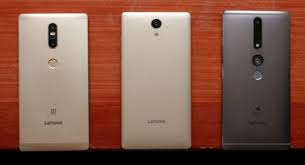lenovo: (17, 10, 94, 154), (116, 9, 193, 153), (216, 7, 293, 151)
